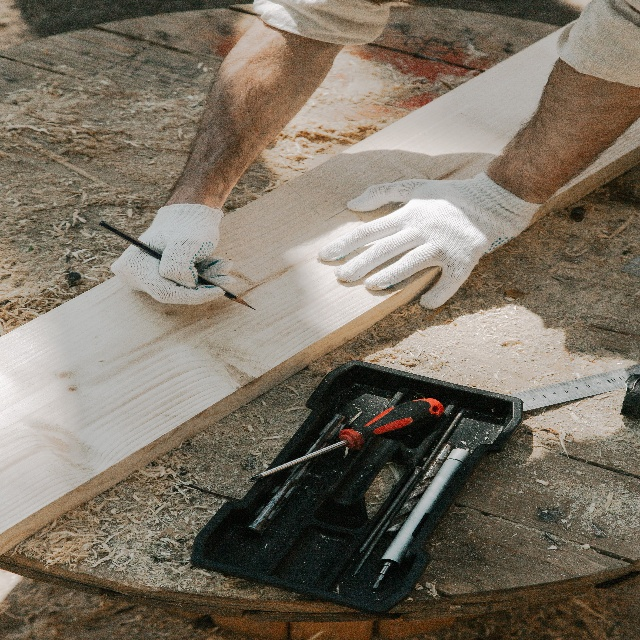Guantes: (315, 171, 538, 310), (109, 205, 235, 305)
